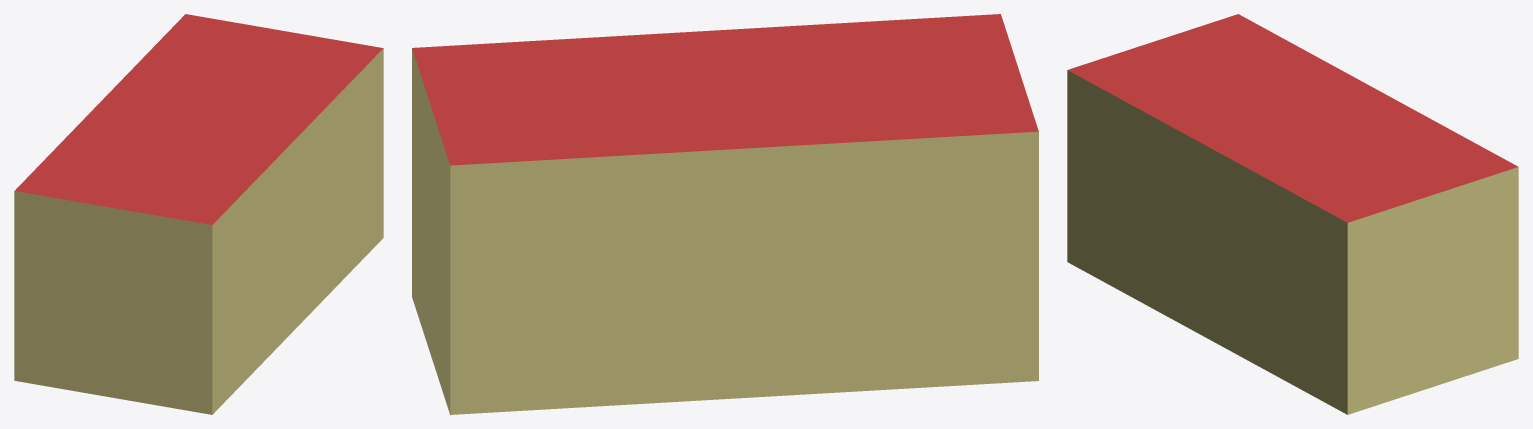
3 renders of one model, left to right at view 1: azimuth 30°, elevation 25°; view 2: azimuth 150°, elevation 25°; view 3: azimuth 270°, elevation 25°, orthographic. The views are drawn at different scales.
Bounding box in the file's own units: 12.95 × 11.83 × 5.55.
